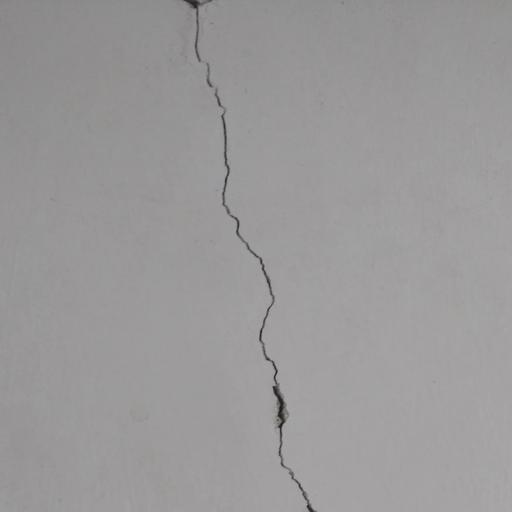major_crack: (170, 0, 314, 512)
